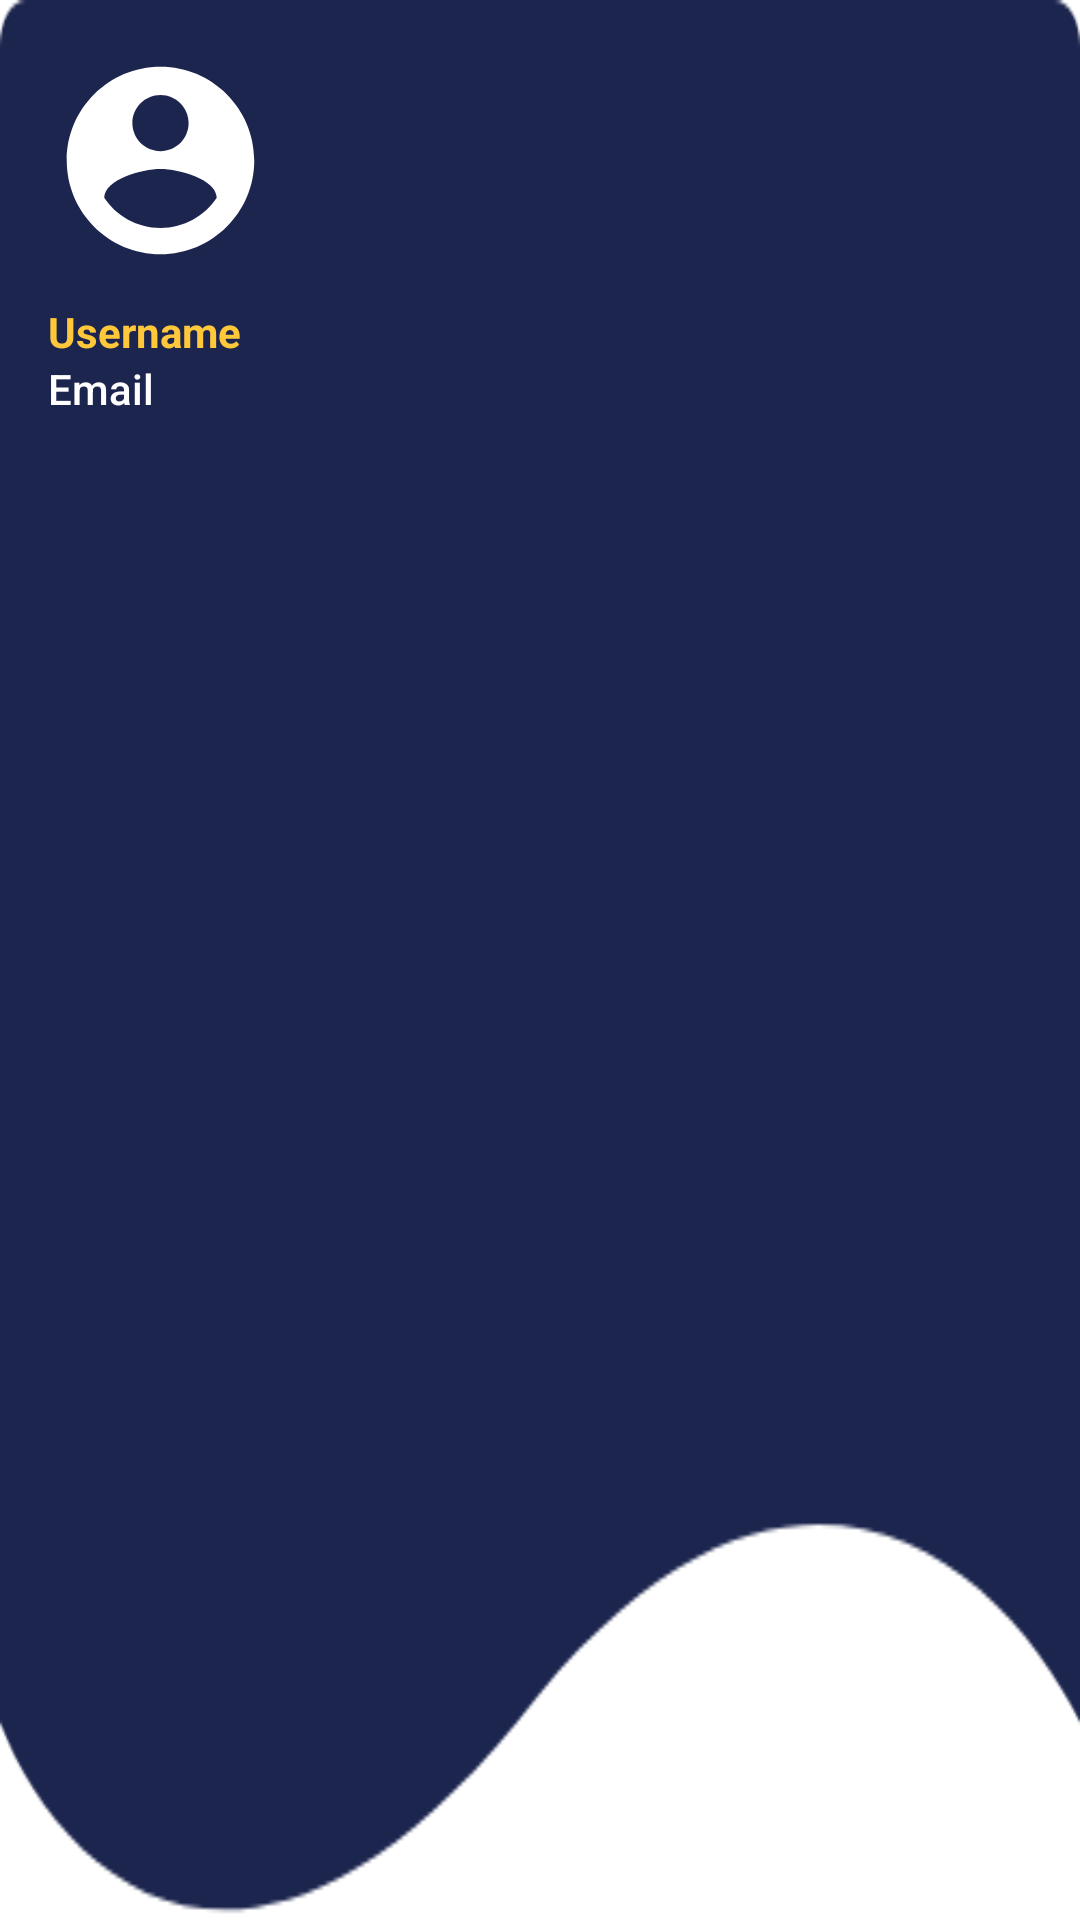

Icons on this 1080px x 1920px Android screen, each with the point to tap as (x,y):
account circle: (160,160)
